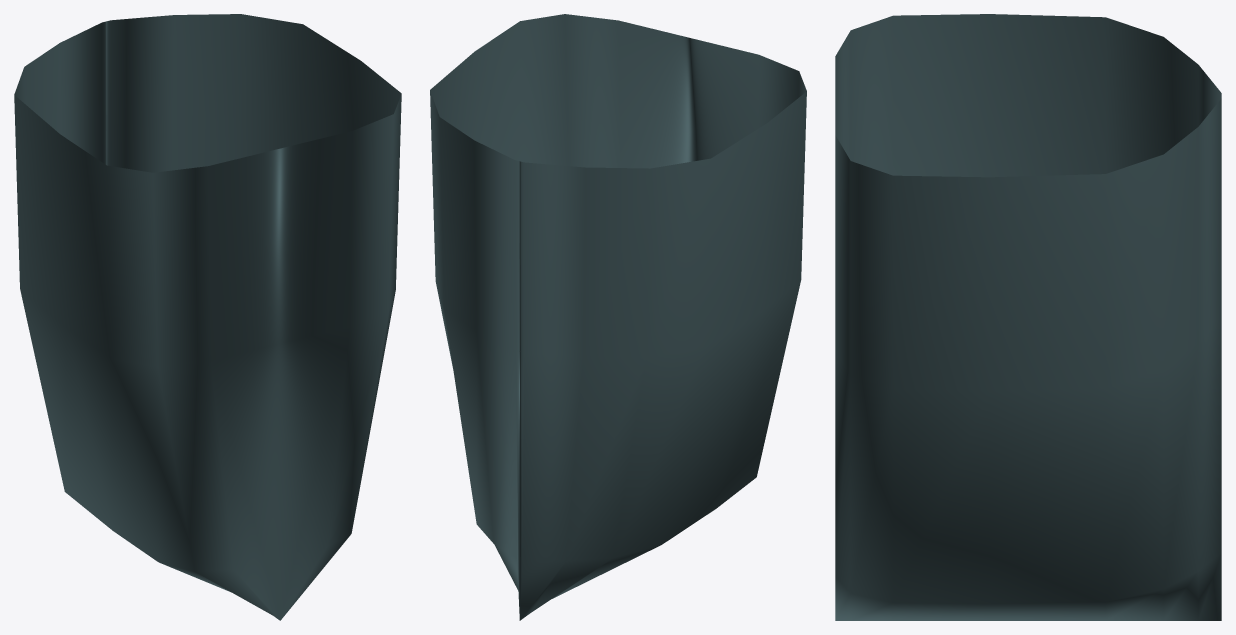
Rendered from ship-hull.glb.
The picture shows the model from 3 angles, left to right: view 1: azimuth 30°, elevation 25°; view 2: azimuth 150°, elevation 25°; view 3: azimuth 270°, elevation 25°; orthographic projection. The views are drawn at different scales.
Parts seen in each view (by area): view 1: ship-hull / Titanium 0; view 2: ship-hull / Titanium 0; view 3: ship-hull / Titanium 0.
Boxes of the visible parts, x1,y1,x2,y2 form: ship-hull / Titanium 0: (14, 14, 401, 620); ship-hull / Titanium 0: (430, 14, 806, 620); ship-hull / Titanium 0: (835, 14, 1221, 620).
Size of the model in its own units: 1 by 1.5 by 1.
